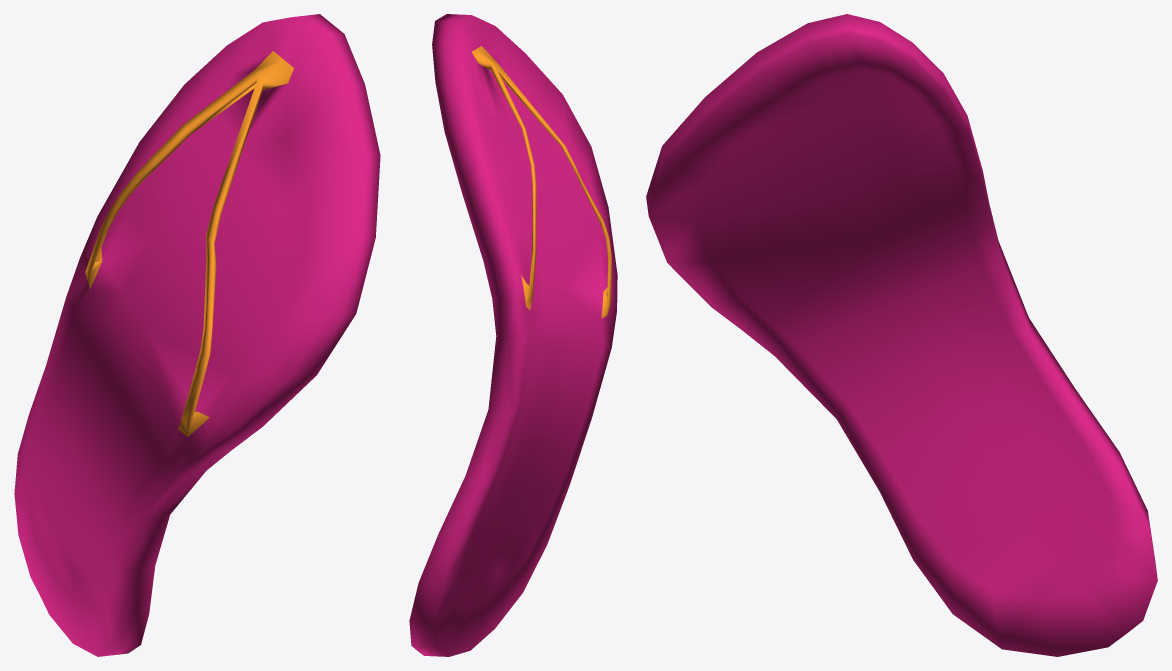
Rendered from ChanclaLBoomerang.fbx.
The picture shows the model from 3 angles, left to right: view 1: azimuth 30°, elevation 25°; view 2: azimuth 150°, elevation 25°; view 3: azimuth 270°, elevation 25°; orthographic projection. The views are drawn at different scales.
Parts seen in each view (by area): view 1: Chancla_L; view 2: Chancla_L; view 3: Chancla_L.
Boxes of the visible parts, left/top/right/bottom form: Chancla_L: left=14, top=14, right=380, bottom=656; Chancla_L: left=409, top=14, right=617, bottom=656; Chancla_L: left=646, top=14, right=1157, bottom=656.
Bounding box in the file's own units: 18.09 × 61.43 × 41.56.
